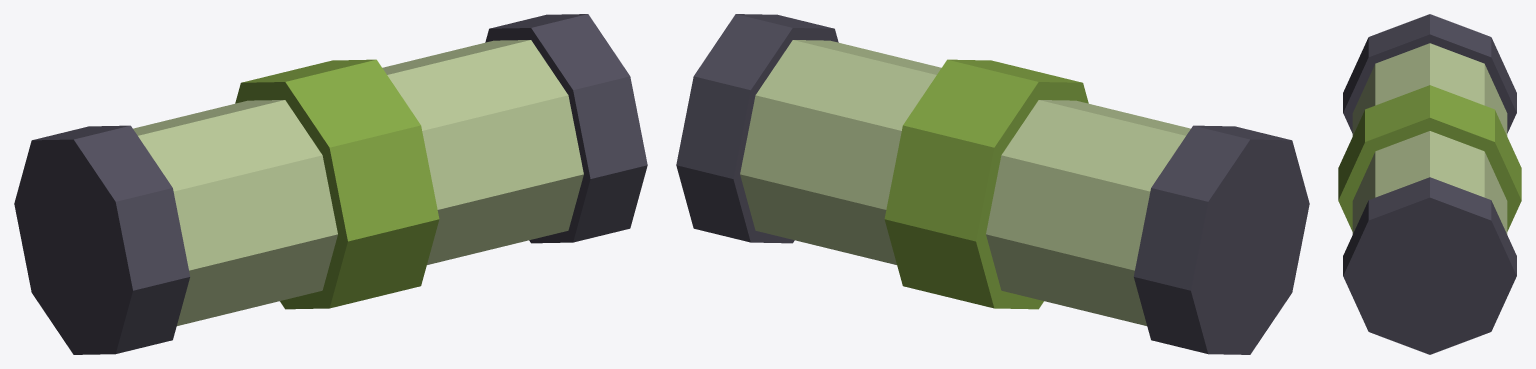
The model's file is scroll.glb.
The picture shows the model from 3 angles, left to right: view 1: azimuth 30°, elevation 25°; view 2: azimuth 150°, elevation 25°; view 3: azimuth 270°, elevation 25°; orthographic projection. The views are drawn at different scales.
Parts seen in each view (by area): view 1: Roll, CapR, Seal, CapL; view 2: Roll, CapR, Seal, CapL; view 3: CapL, Roll, Seal, CapR.
Part boxes in pixels (x1,y1,x2,y2): Roll: (133,40,583,325); CapR: (14,125,190,354); Seal: (235,59,439,309); CapL: (485,14,647,243); Roll: (740,40,1190,325); CapR: (1133,125,1309,354); Seal: (884,59,1088,309); CapL: (676,14,838,243); CapL: (1343,177,1516,354); Roll: (1352,43,1507,234); Seal: (1338,85,1521,231); CapR: (1343,14,1516,133).
Size of the model in its own units: 0.45 by 0.19 by 0.19.
